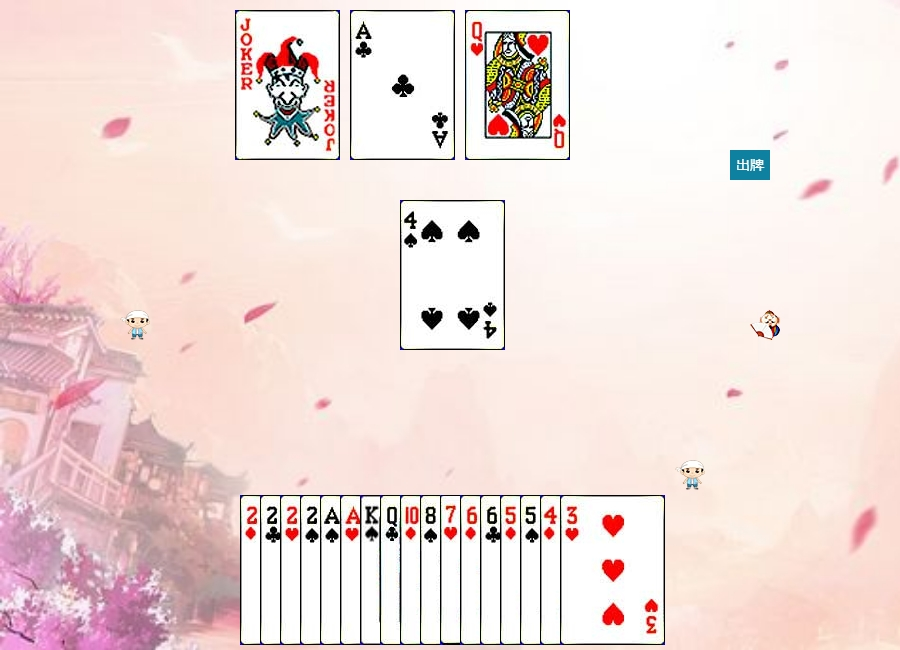10~1: (400, 495, 505, 645)
12~2: (380, 495, 485, 645)
12~3: (465, 10, 570, 160)
13~4: (360, 495, 465, 645)
14~2: (350, 10, 455, 160)
14~3: (340, 495, 445, 645)
14~4: (320, 495, 425, 645)
15~1: (240, 495, 345, 645)
15~2: (260, 495, 365, 645)
15~3: (280, 495, 385, 645)
15~4: (300, 495, 405, 645)
18~4: (235, 10, 340, 160)
3~3: (560, 495, 665, 645)
4~1: (540, 495, 645, 645)
4~4: (400, 200, 505, 350)
5~1: (500, 495, 605, 645)
5~4: (520, 495, 625, 645)
6~1: (460, 495, 565, 645)
6~2: (480, 495, 585, 645)
7~3: (440, 495, 545, 645)
8~4: (420, 495, 525, 645)
